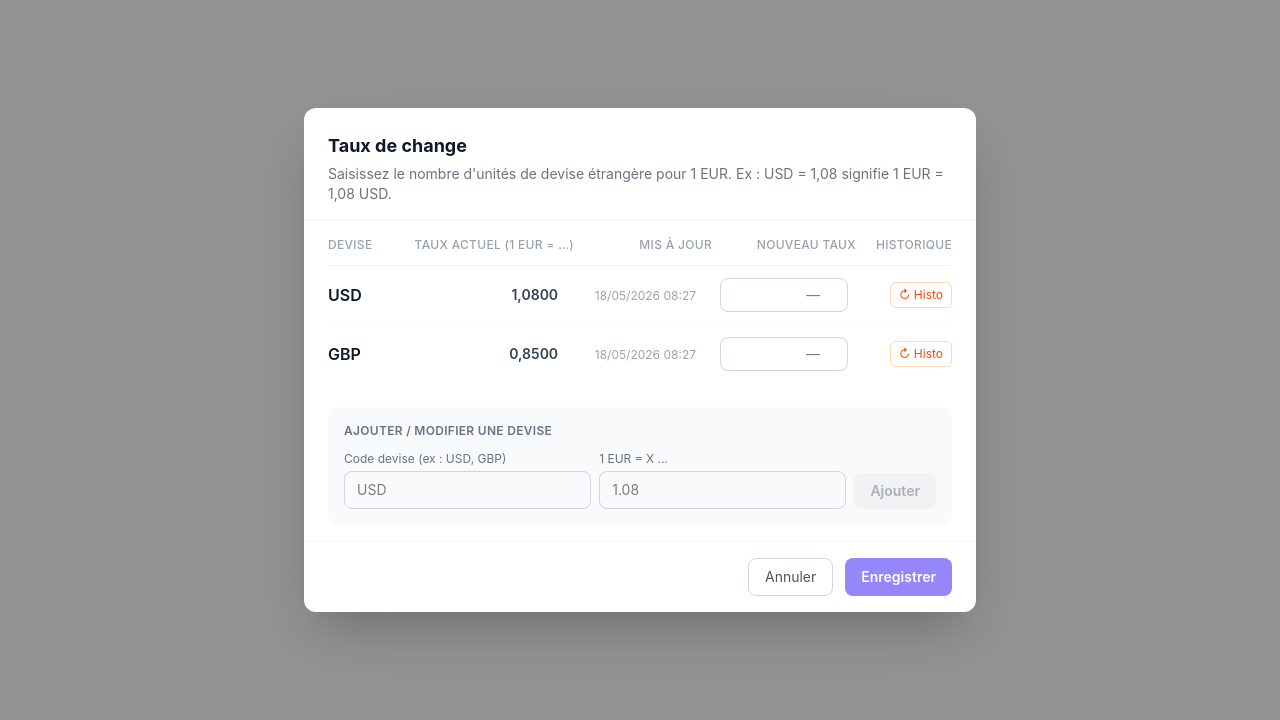
Scenario: ExchangeRateUpdateModal › affiche une erreur si la mise à jour échoue
Expected: the text "USD" is shown, [328,285,362,305]
Type "1.10" into the number field with placeholder "—" in the row of "1,0800" at [784, 295], box [720,278,848,312]
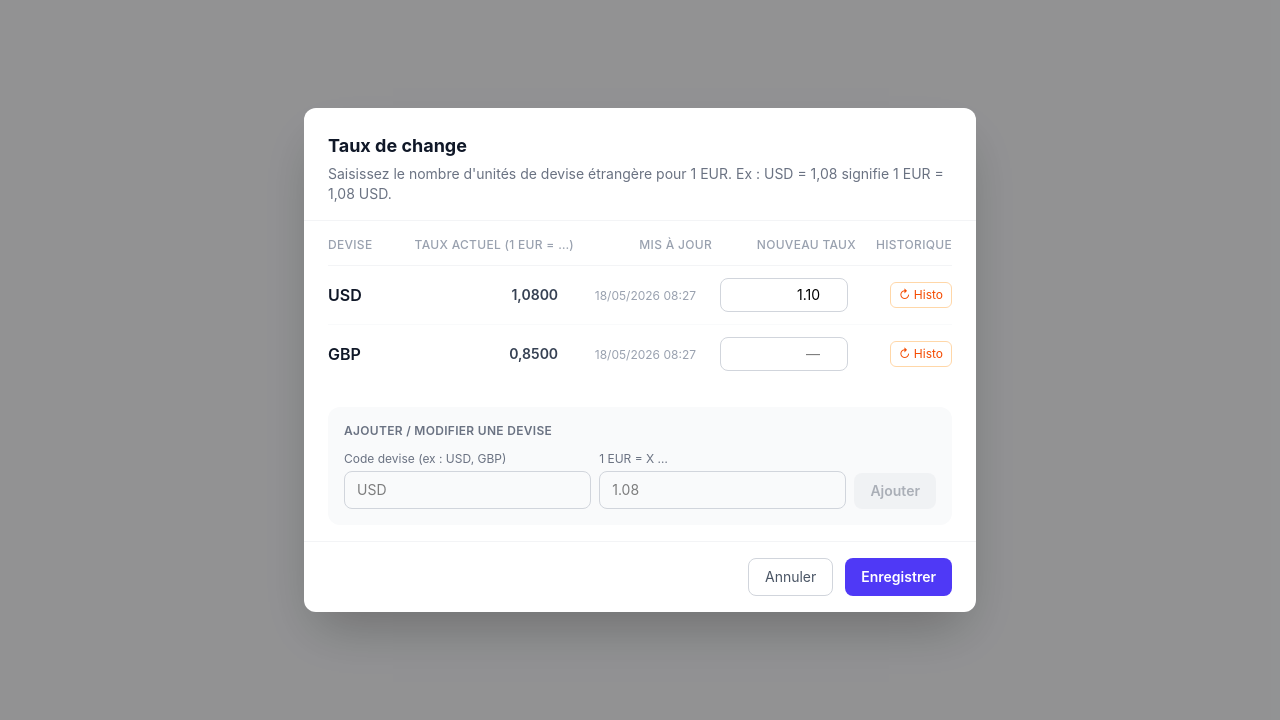
Click the button "Enregistrer" at [899, 577], box [845,558,952,596]
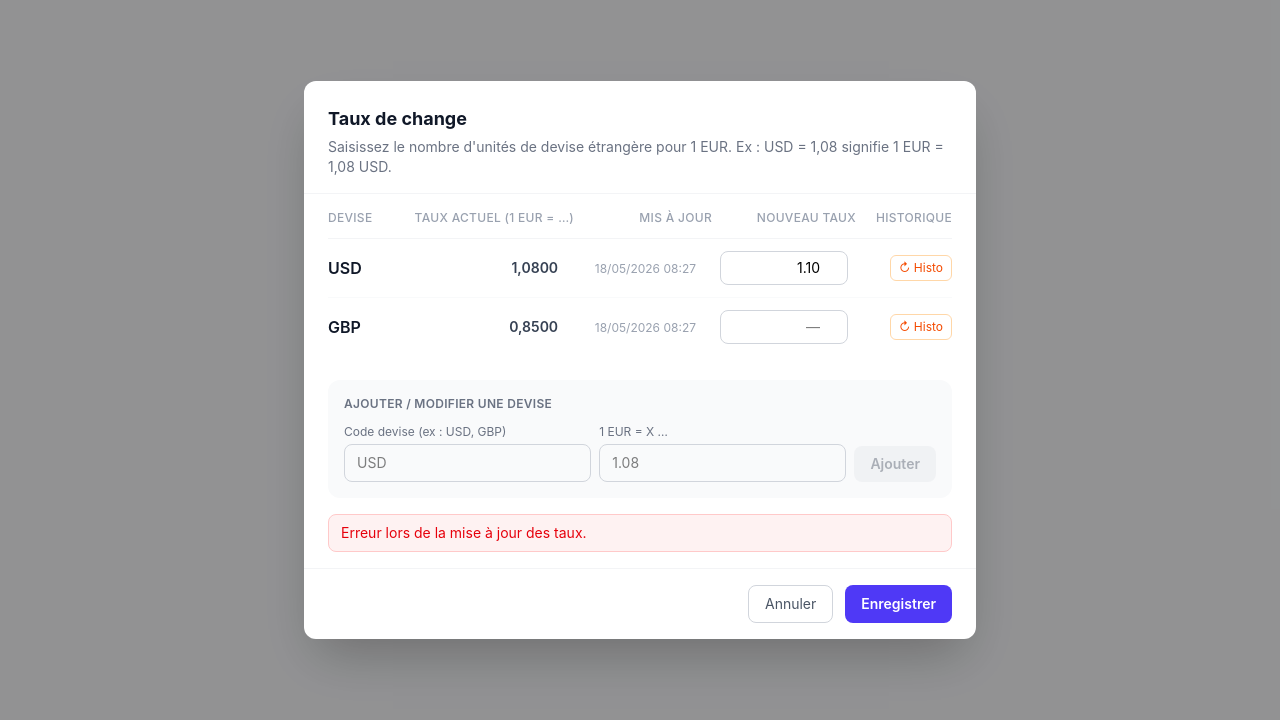
Now the text "Erreur lors de la mise à jour des taux." is shown, box [328,514,952,552]
